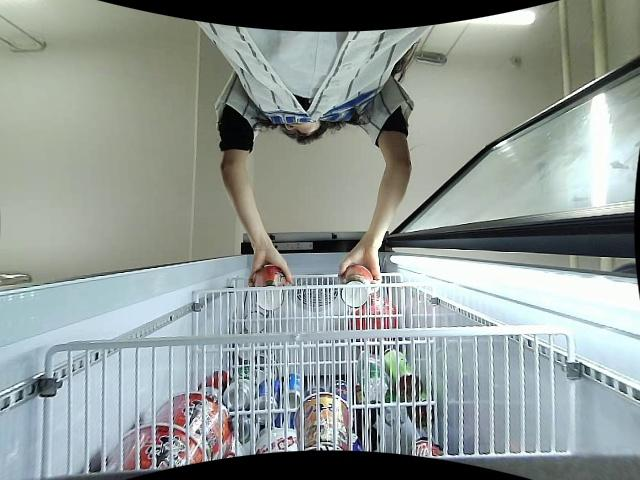00_hand: (247, 249, 295, 284), (337, 247, 382, 283)
02_shinRamen_S: (252, 264, 285, 311), (341, 266, 374, 309)
